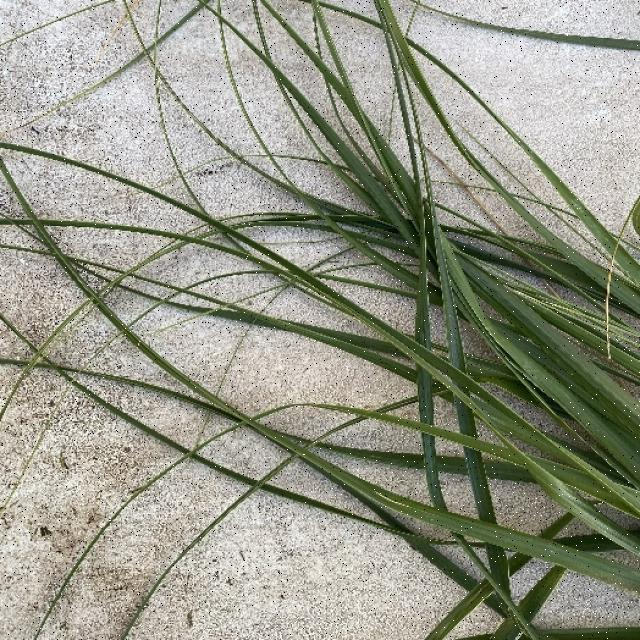organik: (87, 13, 640, 594)
